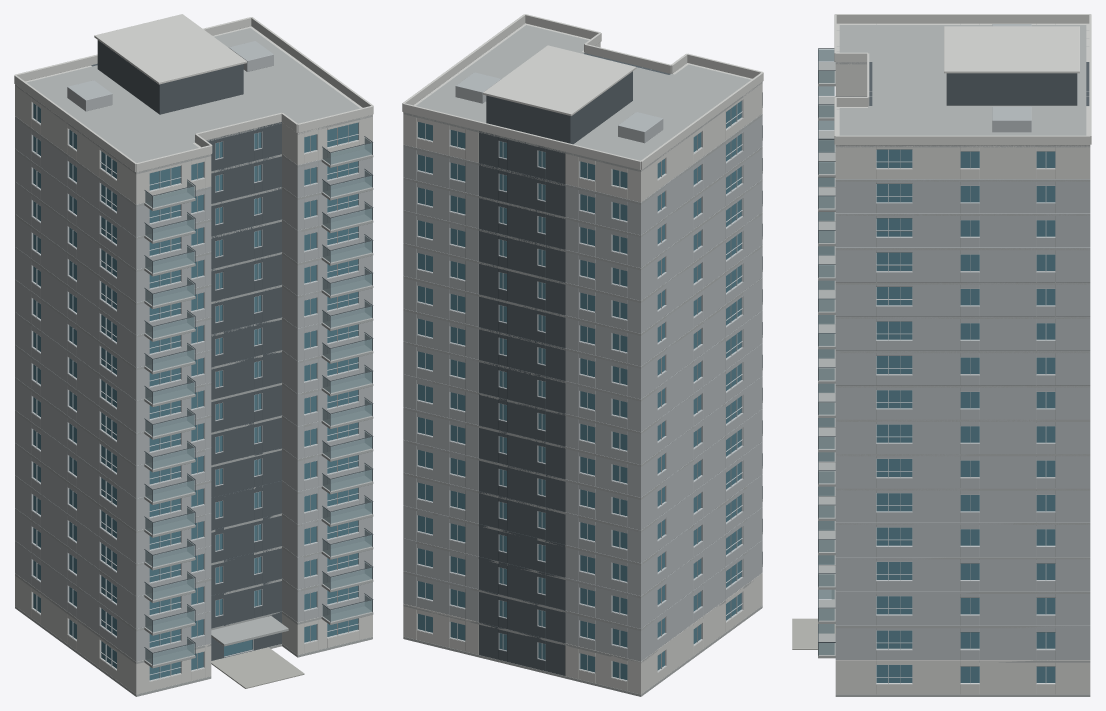
File: APARTMENT_B_MIDRISE.fbx
The picture shows the model from 3 angles, left to right: view 1: azimuth 30°, elevation 25°; view 2: azimuth 150°, elevation 25°; view 3: azimuth 270°, elevation 25°; orthographic projection. The views are drawn at different scales.
Parts seen in each view (by area): view 1: UNITY_ASSET_APARTMENT_B_MIDRISE; view 2: UNITY_ASSET_APARTMENT_B_MIDRISE; view 3: UNITY_ASSET_APARTMENT_B_MIDRISE.
Boxes of the visible parts, box(x1,y1,x2,y2) form: UNITY_ASSET_APARTMENT_B_MIDRISE: box(14, 14, 373, 696); UNITY_ASSET_APARTMENT_B_MIDRISE: box(402, 14, 763, 696); UNITY_ASSET_APARTMENT_B_MIDRISE: box(792, 14, 1091, 696).
Size of the model in its own units: 22.18 by 49.6 by 22.89.
